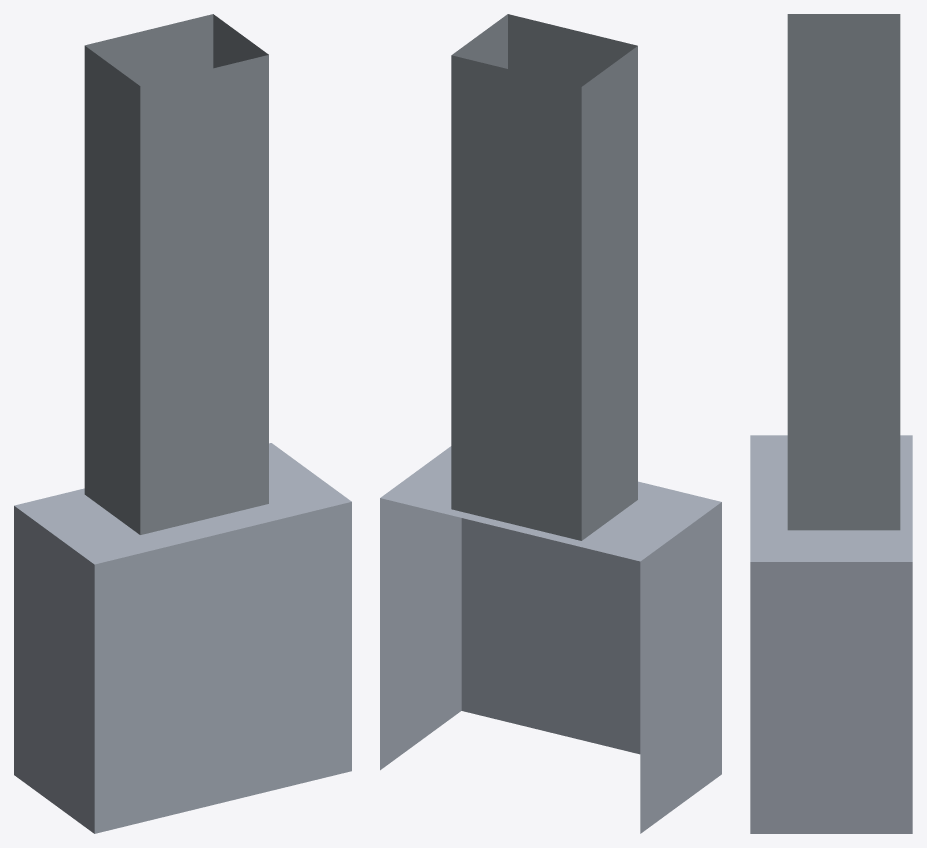
The model's file is cell_116.obj.
The picture shows the model from 3 angles, left to right: view 1: azimuth 30°, elevation 25°; view 2: azimuth 150°, elevation 25°; view 3: azimuth 270°, elevation 25°; orthographic projection.
Bounding box in the file's own units: 0.375 × 1 × 0.2031.
